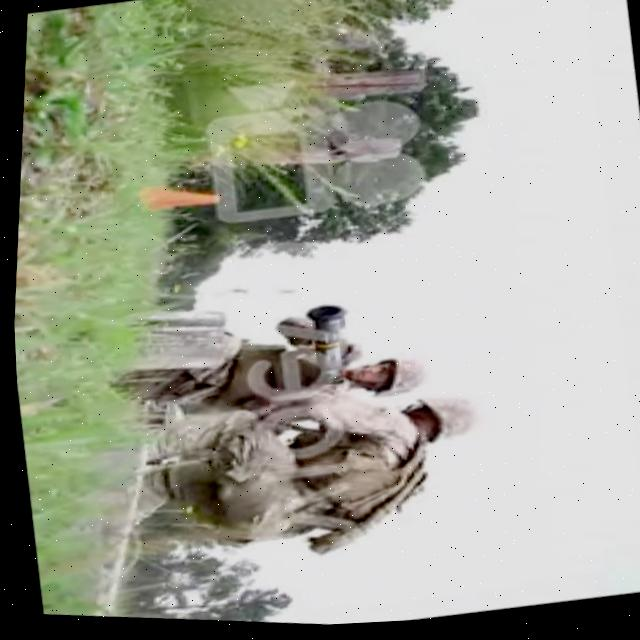rocket: (293, 305, 357, 394)
